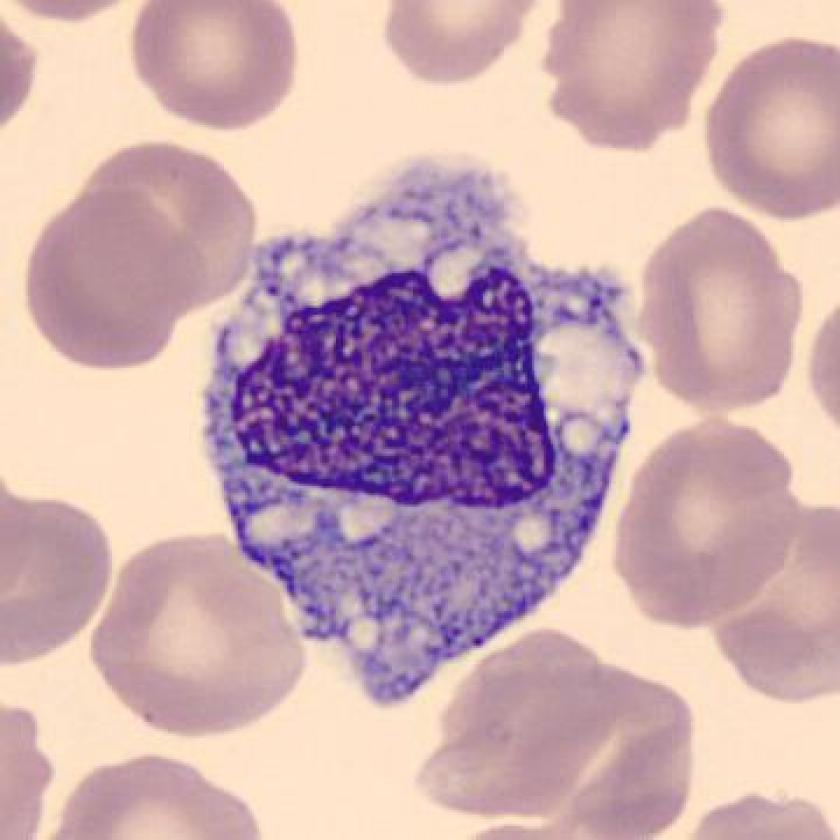monocyte: (183, 142, 666, 728)
